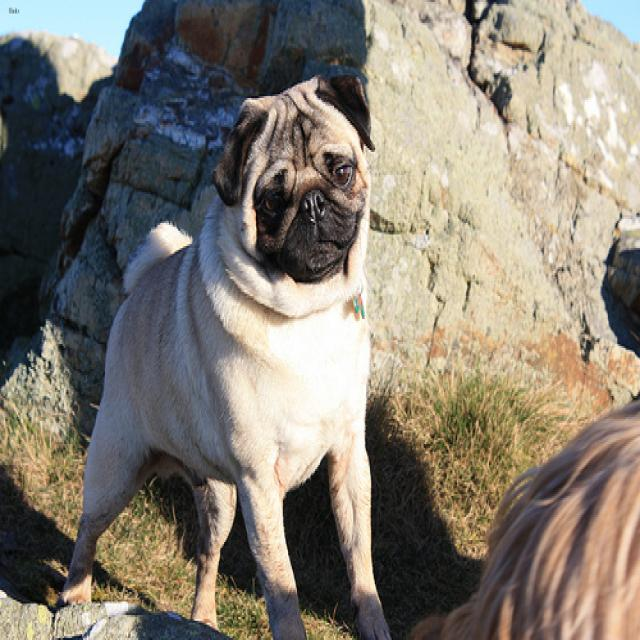dog-pug: (47, 60, 401, 636)
